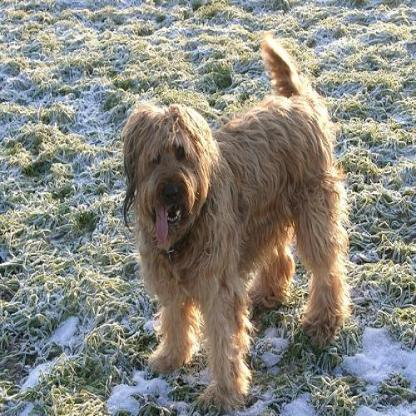briard: (119, 32, 352, 414)
